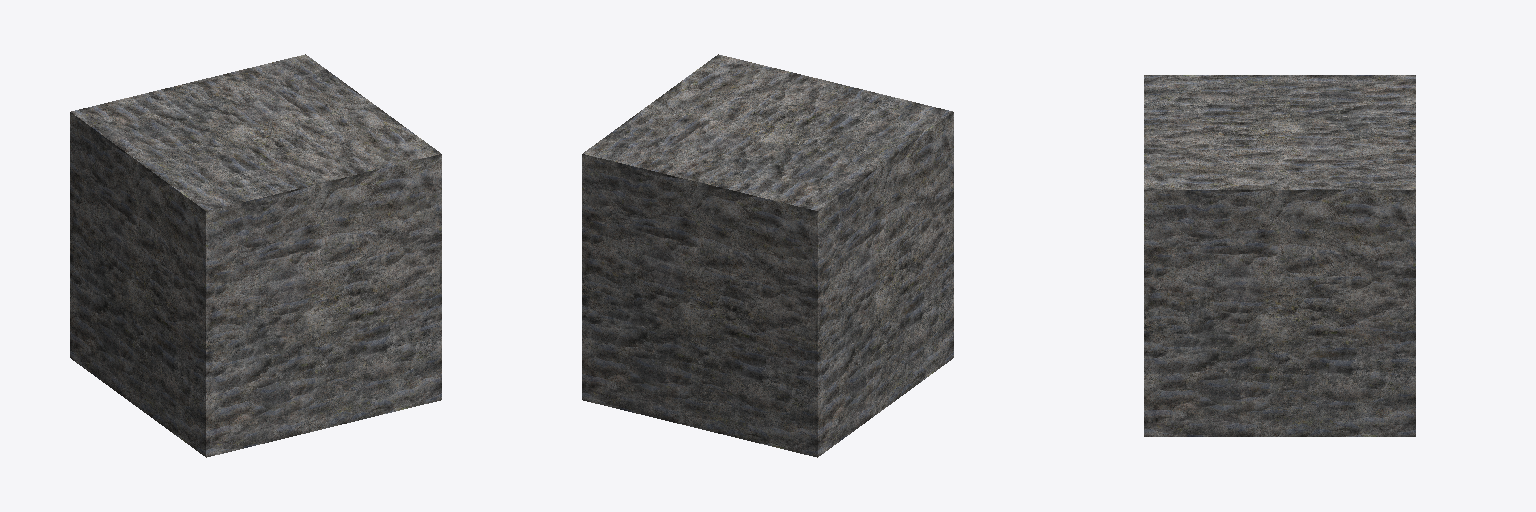
3 renders of one model, left to right at view 1: azimuth 30°, elevation 25°; view 2: azimuth 150°, elevation 25°; view 3: azimuth 270°, elevation 25°, orthographic.
Parts seen in each view (by area): view 1: Cube; view 2: Cube; view 3: Cube.
Boxes of the visible parts, x1,y1,x2,y2 form: Cube: [70, 54, 441, 457]; Cube: [582, 54, 953, 457]; Cube: [1144, 75, 1415, 436].
Bounding box in the file's own units: 1 × 1 × 1.
Materials: 1 (1 with a texture image).